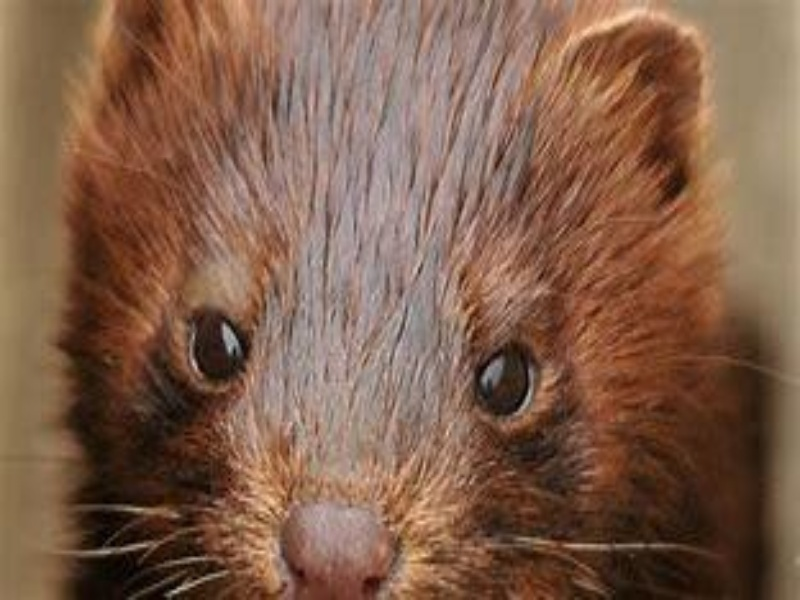minkish: (58, 8, 759, 596)
